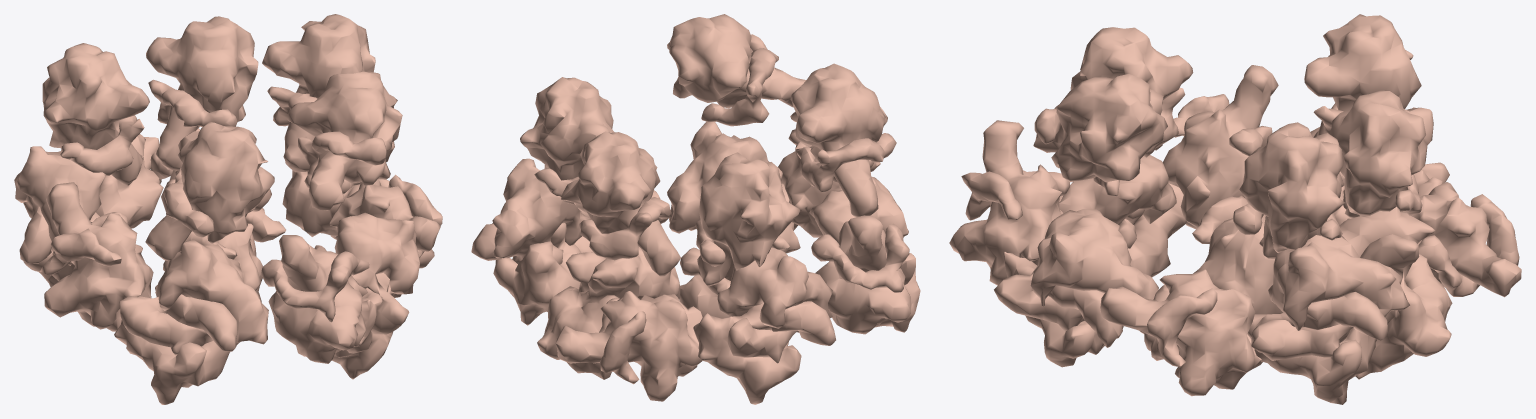
File: vRNP2.fbx
3 renders of one model, left to right at view 1: azimuth 30°, elevation 25°; view 2: azimuth 150°, elevation 25°; view 3: azimuth 270°, elevation 25°, orthographic. The views are drawn at different scales.
Visible parts, largest first — view 1: RNPOCMS, RNPGCMS, RNPQCMS, RNPTCMS, RNPMCMS, RNPPCMS, RNPNCMS, RNPKCMS, RNPHCMS, RNPECMS, RNPACMS, RNPSCMS (+15 smaller); view 2: RNPTCMS, RNPSCMS, RNPQCMS, RNPOCMS, RNPMCMS, RNPACMS, RNPBCMS, RNPKCMS, RNPPCMS, RNPCCMS, RNPDCMS, RNPECMS (+15 smaller); view 3: RNPCCMS, RNPMCMS, RNPKCMS, RNPECMS, RNPLCMS, RNPQCMS, RNPPCMS, RNPNCMS, RNPTCMS, RNPICMS, RNPDCMS, RNPSCMS (+17 smaller).
Boxes of the visible parts, left/top/right/bottom form: RNPOCMS: left=145, top=121, right=274, bottom=261; RNPGCMS: left=119, top=240, right=268, bottom=355; RNPQCMS: left=146, top=16, right=258, bottom=170; RNPTCMS: left=42, top=43, right=149, bottom=184; RNPMCMS: left=287, top=71, right=402, bottom=210; RNPPCMS: left=44, top=182, right=153, bottom=331; RNPNCMS: left=268, top=235, right=367, bottom=363; RNPKCMS: left=262, top=14, right=375, bottom=172; RNPHCMS: left=114, top=294, right=240, bottom=404; RNPECMS: left=334, top=212, right=419, bottom=334; RNPACMS: left=14, top=146, right=105, bottom=265; RNPSCMS: left=96, top=134, right=163, bottom=228; RNPTCMS: left=697, top=152, right=799, bottom=286; RNPSCMS: left=555, top=291, right=702, bottom=401; RNPQCMS: left=561, top=131, right=680, bottom=276; RNPOCMS: left=790, top=63, right=885, bottom=217; RNPMCMS: left=667, top=14, right=806, bottom=108; RNPACMS: left=717, top=247, right=832, bottom=363; RNPBCMS: left=693, top=301, right=835, bottom=404; RNPKCMS: left=520, top=77, right=614, bottom=180; RNPPCMS: left=815, top=215, right=910, bottom=334; RNPCCMS: left=492, top=158, right=590, bottom=264; RNPDCMS: left=471, top=223, right=592, bottom=325; RNPECMS: left=667, top=121, right=782, bottom=233; RNPCCMS: left=1251, top=235, right=1409, bottom=360; RNPMCMS: left=1033, top=74, right=1167, bottom=182; RNPKCMS: left=1239, top=122, right=1345, bottom=258; RNPECMS: left=994, top=209, right=1158, bottom=331; RNPLCMS: left=1100, top=269, right=1262, bottom=396; RNPQCMS: left=1329, top=90, right=1433, bottom=218; RNPPCMS: left=1163, top=65, right=1278, bottom=229; RNPNCMS: left=949, top=120, right=1063, bottom=285; RNPTCMS: left=1304, top=14, right=1421, bottom=180; RNPICMS: left=1355, top=234, right=1452, bottom=379; RNPDCMS: left=1247, top=292, right=1387, bottom=404; RNPSCMS: left=1400, top=182, right=1521, bottom=297.
Bounding box in the file's own units: 151 × 106 × 180.
